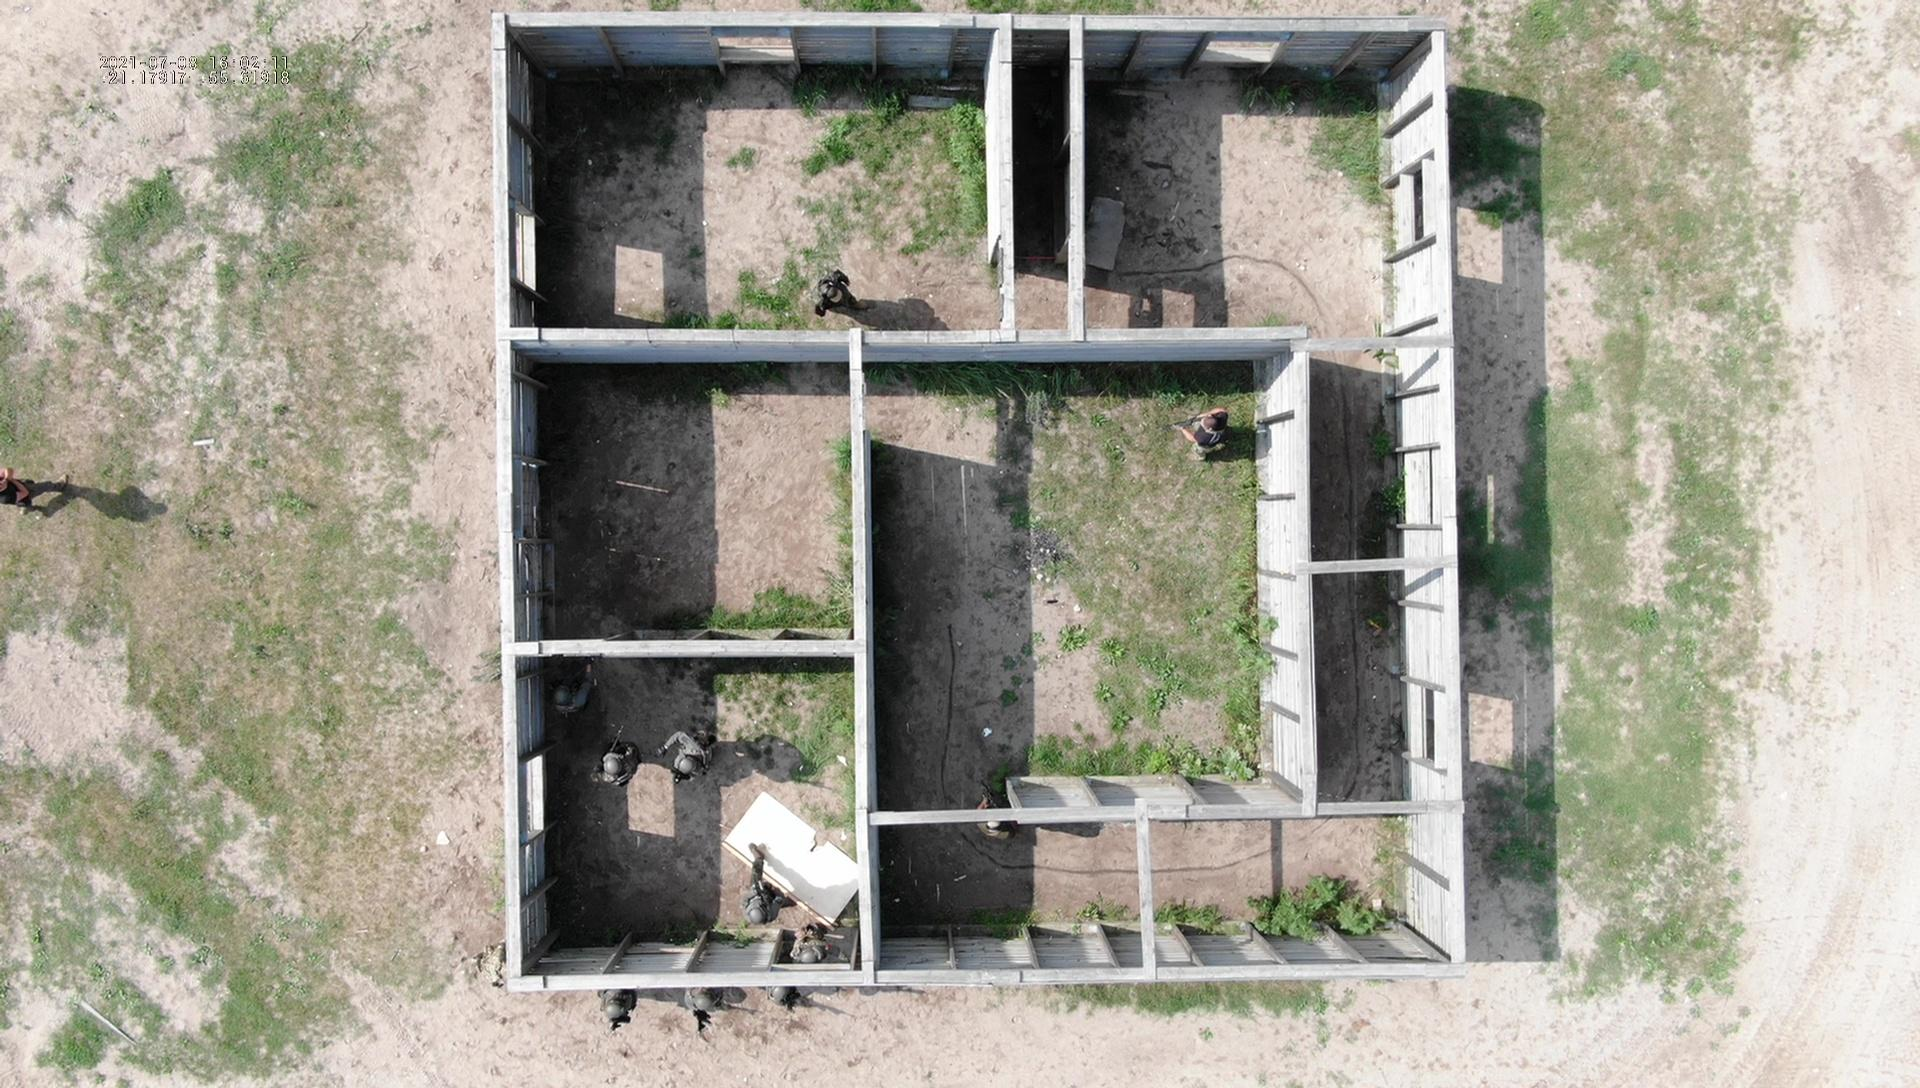Soldier: (651, 716, 738, 793), (539, 655, 603, 757), (579, 728, 655, 798), (802, 258, 866, 334), (735, 865, 800, 936), (1174, 404, 1244, 467), (680, 985, 738, 1037), (589, 986, 646, 1037), (976, 812, 1034, 860)
